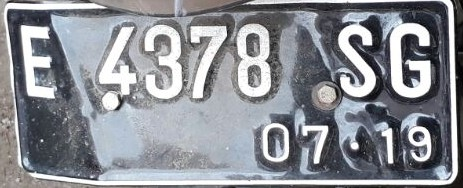plate: (3, 3, 458, 185)
